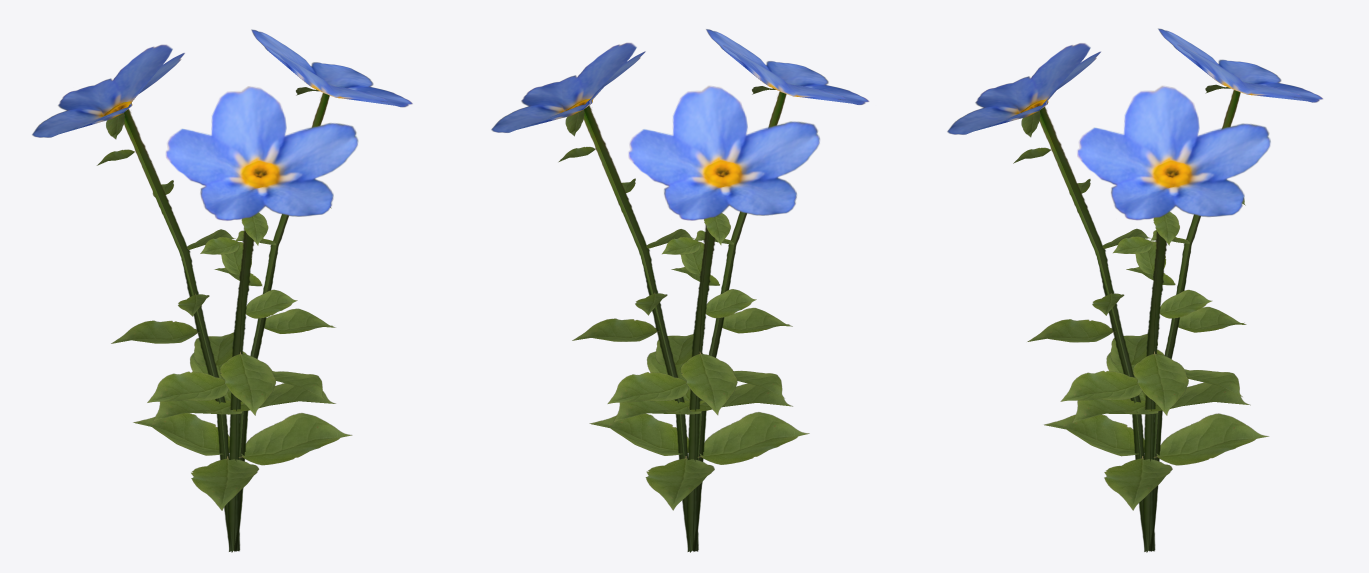
The model's file is flower2.gltf.
3 renders of one model, left to right at view 1: azimuth 30°, elevation 25°; view 2: azimuth 150°, elevation 25°; view 3: azimuth 270°, elevation 25°, orthographic.
Visible parts, largest first — view 1: BlueFLower_2.005; view 2: BlueFLower_2.005; view 3: BlueFLower_2.005.
Boxes of the visible parts, bbox=[...] form: BlueFLower_2.005: bbox=[32, 29, 412, 552]; BlueFLower_2.005: bbox=[491, 29, 869, 552]; BlueFLower_2.005: bbox=[947, 28, 1322, 552].
Bounding box in the file's own units: 0.2142 × 0.2781 × 0.2206.
Materials: 1 (1 with a texture image).
